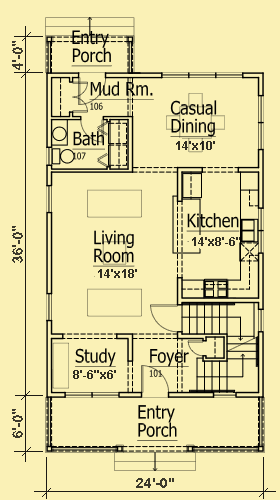door: (137, 361, 173, 401), (147, 299, 188, 333), (75, 70, 109, 105), (77, 114, 106, 143)
large sink: (51, 146, 76, 169)
small sink: (50, 118, 69, 148)
stairs: (177, 303, 262, 400), (112, 448, 201, 475)
windows: (157, 69, 245, 83), (62, 388, 120, 402), (255, 93, 266, 154), (43, 286, 58, 324), (43, 185, 58, 214), (254, 303, 266, 333)
